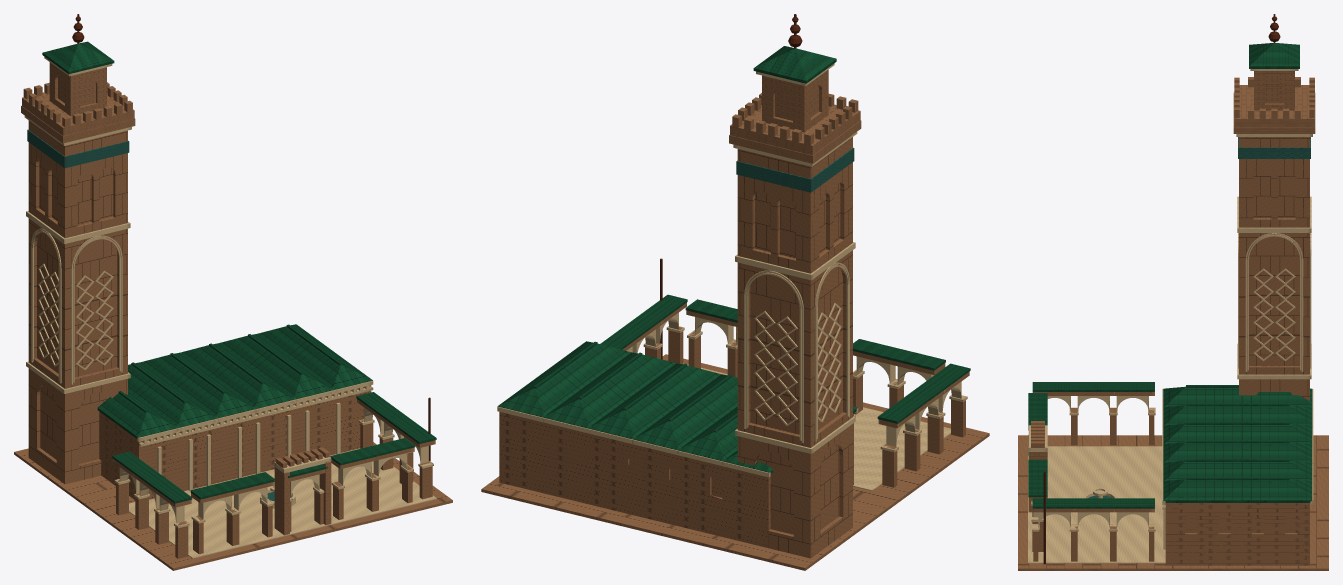
3 views of the same model, side by side, from view 1: azimuth 30°, elevation 25°; view 2: azimuth 150°, elevation 25°; view 3: azimuth 270°, elevation 25° (orthographic). The views are drawn at different scales.
Parts seen in each view (by area): view 1: garrison_part_0002, garrison_part_0004, garrison_part_0000, garrison_part_0003, garrison_part_0001; view 2: garrison_part_0002, garrison_part_0004, garrison_part_0000, garrison_part_0003, garrison_part_0001; view 3: garrison_part_0004, garrison_part_0002, garrison_part_0000, garrison_part_0003, garrison_part_0001, garrison_part_0005.
Part boxes in pixels (bbox=[...]): garrison_part_0002: bbox=[28, 120, 371, 535]; garrison_part_0004: bbox=[21, 41, 436, 503]; garrison_part_0000: bbox=[14, 442, 452, 570]; garrison_part_0003: bbox=[22, 92, 435, 528]; garrison_part_0001: bbox=[116, 420, 432, 558]; garrison_part_0002: bbox=[499, 137, 853, 558]; garrison_part_0004: bbox=[497, 46, 970, 473]; garrison_part_0000: bbox=[481, 354, 989, 570]; garrison_part_0003: bbox=[497, 104, 969, 477]; garrison_part_0001: bbox=[645, 327, 965, 487]; garrison_part_0004: bbox=[1028, 43, 1315, 508]; garrison_part_0002: bbox=[1028, 137, 1309, 565]; garrison_part_0000: bbox=[1018, 435, 1328, 570]; garrison_part_0003: bbox=[1028, 85, 1314, 549]; garrison_part_0001: bbox=[1032, 408, 1154, 561]; garrison_part_0005: bbox=[1043, 14, 1280, 564].
Bounding box in the file's own units: 1420 × 2190 × 1400.
